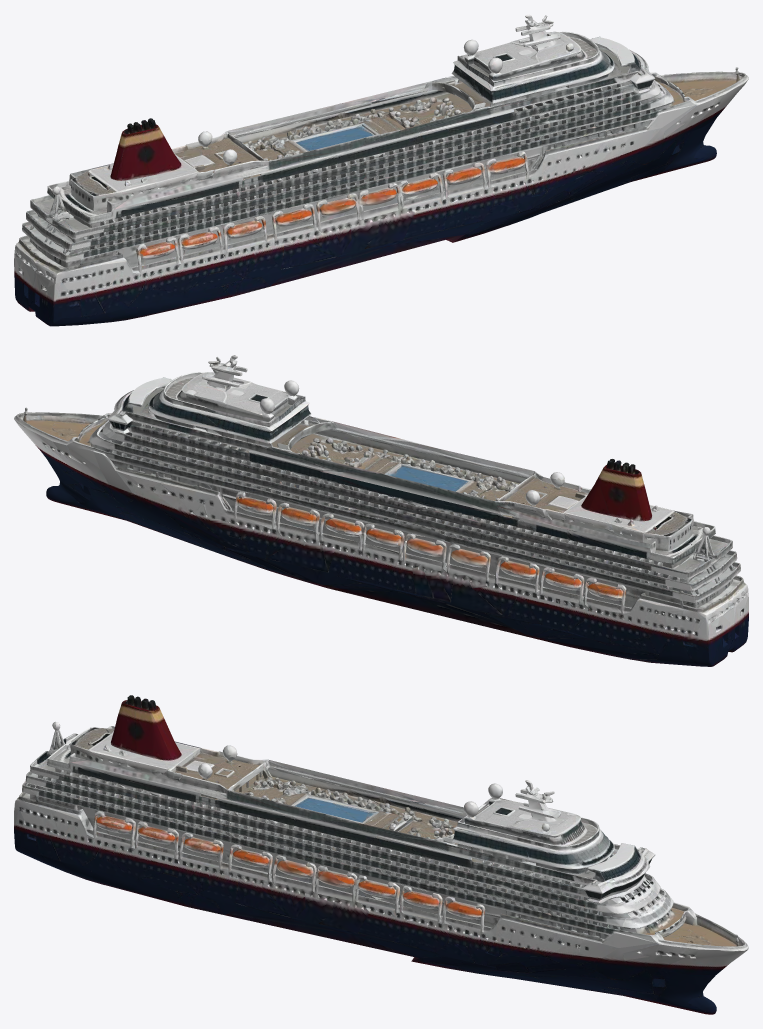
File: 08_mid_size_cruise_ship_250m.glb
3 views of the same model, one above another, from view 1: azimuth 30°, elevation 25°; view 2: azimuth 150°, elevation 25°; view 3: azimuth 330°, elevation 25° (orthographic).
Parts seen in each view (by area): view 1: Mesh_0; view 2: Mesh_0; view 3: Mesh_0.
Part boxes in pixels (x1,y1,x2,y2): Mesh_0: [14, 14, 748, 326]; Mesh_0: [14, 355, 748, 666]; Mesh_0: [14, 695, 748, 1014].
Size of the model in its own units: 250 by 63.3 by 31.99.
1 material, 1 textured.
